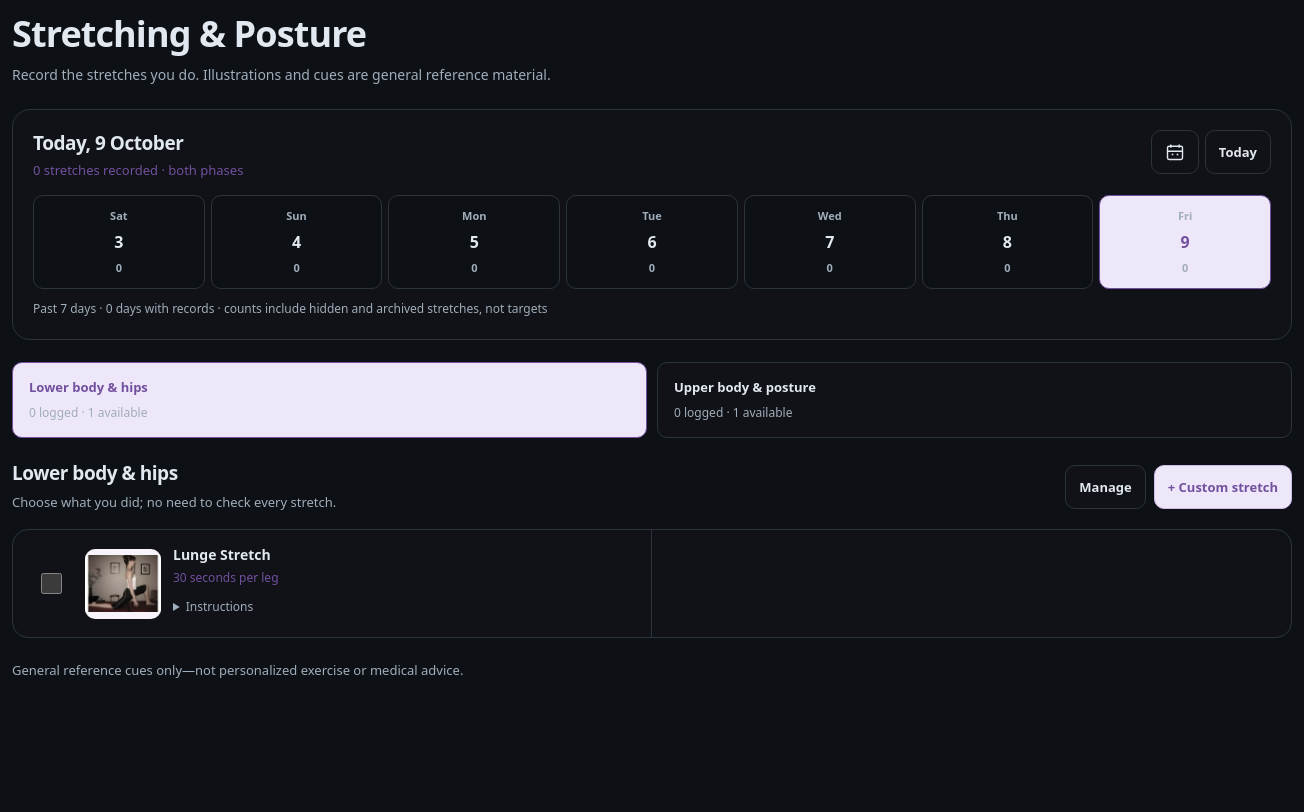
StretchingScreen › refreshes daily and week counts after a confirmed save
Click the checkbox labelled "Lunge Stretch".
click(51, 584)  # box [40,573,62,594]
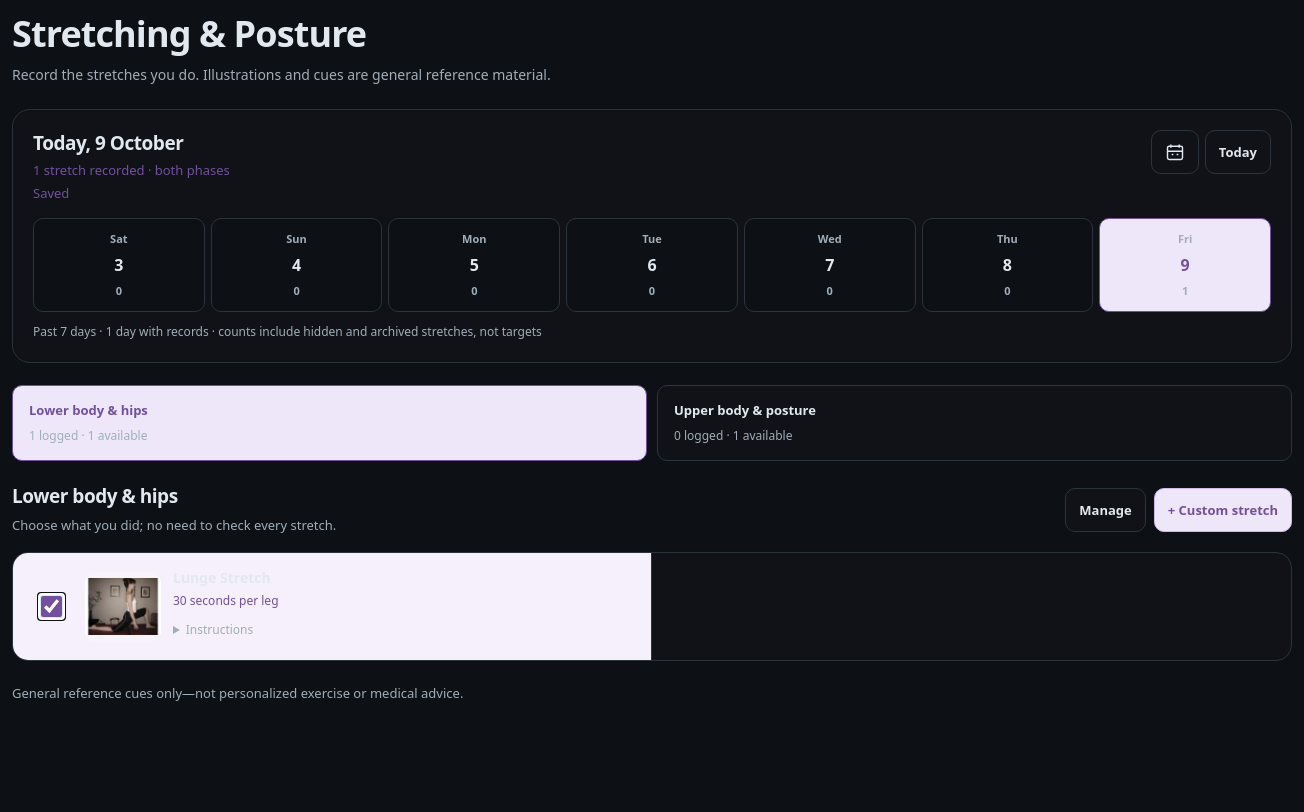
Expected: the checkbox labelled "Lunge Stretch" is checked
Expected: the text "1 stretch recorded · both phases" is shown, [33,161,230,179]
Expected: the button with aria-label "2026-10-09: 1 stretch recorded" is shown, [1099,218,1271,312]
Click the checkbox labelled "Lunge Stretch".
click(51, 607)  # box [40,596,62,617]
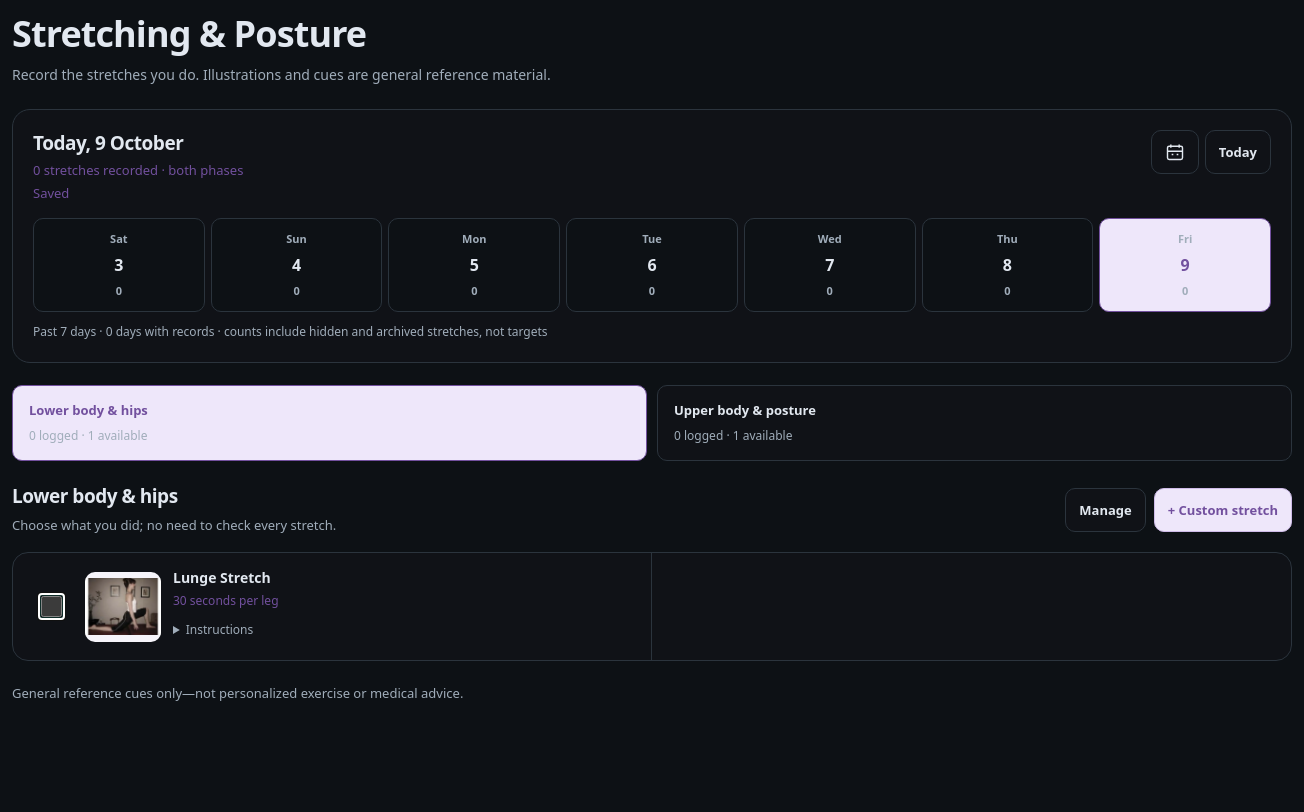
Expected: the text "0 stretches recorded · both phases" is shown, [33,161,243,179]
Expected: the button with aria-label "2026-10-09: 0 stretches recorded" is shown, [1099,218,1271,312]
